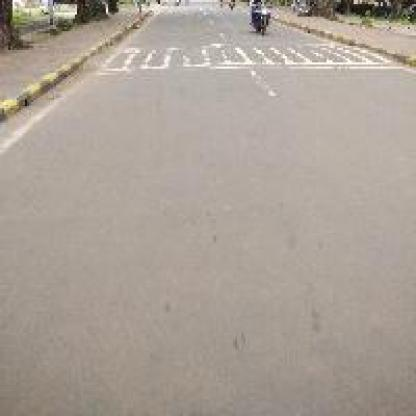Speed Bump: (87, 35, 410, 79)
